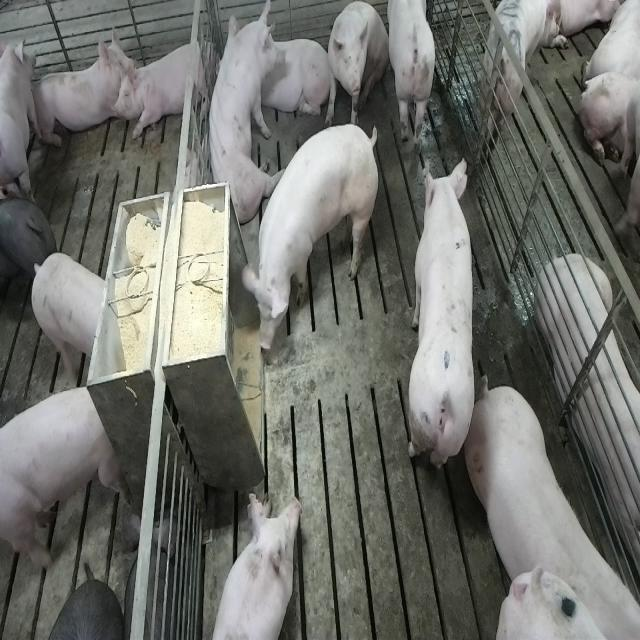Sitting: (200, 4, 277, 230), (324, 1, 388, 125)
Standing: (243, 118, 382, 358), (2, 382, 124, 572), (406, 157, 476, 480), (30, 254, 108, 388), (477, 2, 532, 150), (385, 2, 438, 155), (0, 191, 54, 311), (0, 35, 36, 201)
Sternal_lying: (538, 248, 640, 576), (204, 492, 300, 640), (30, 22, 134, 146), (215, 23, 328, 125), (116, 31, 215, 140)
